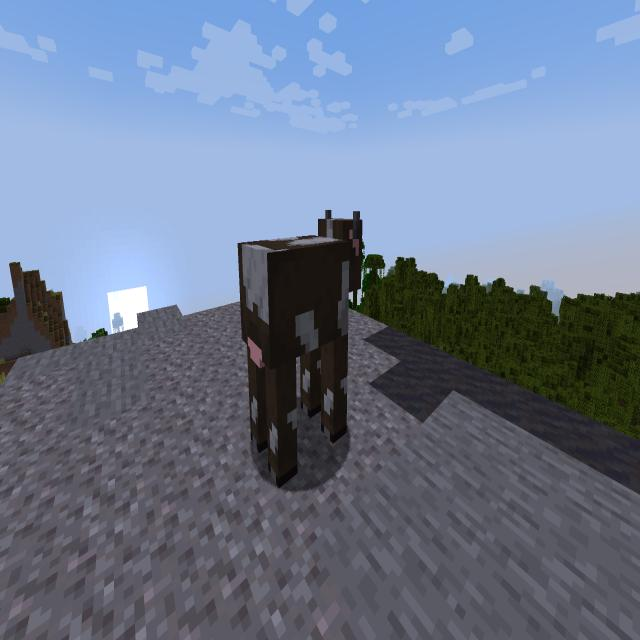cow: (231, 199, 379, 497)
